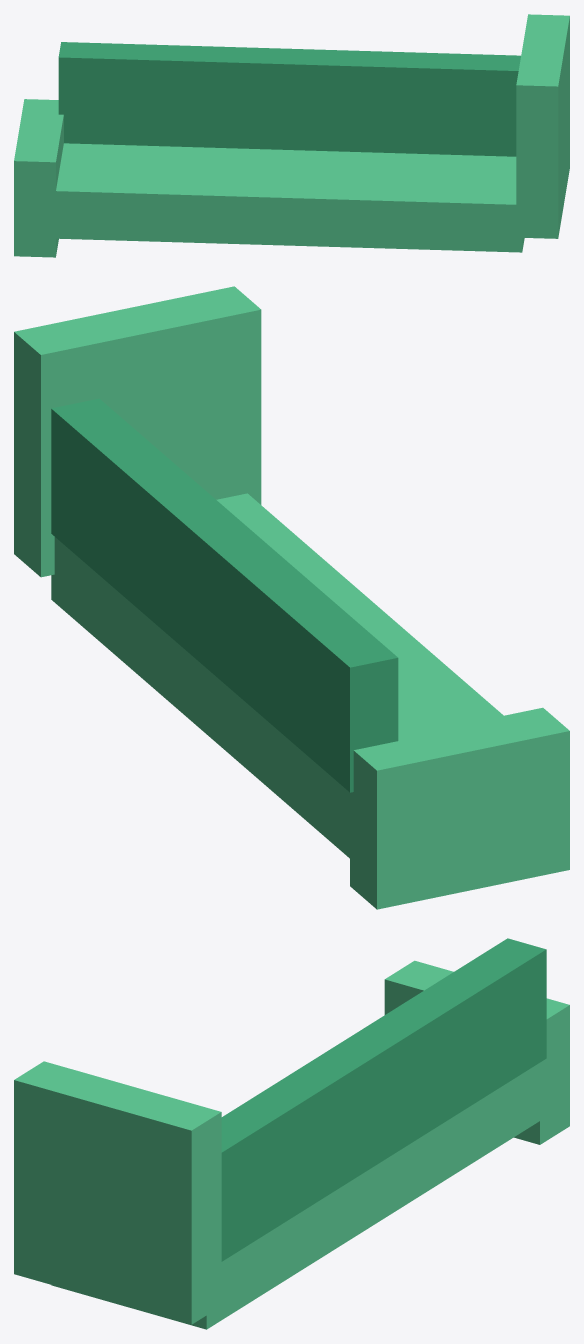
Rendered from nd_greenbench.glb.
3 renders of one model, top to bottom at view 1: azimuth 30°, elevation 25°; view 2: azimuth 150°, elevation 25°; view 3: azimuth 270°, elevation 25°, orthographic. The views are drawn at different scales.
Visible parts, largest first — view 1: nd_greenbench_lod0; view 2: nd_greenbench_lod0; view 3: nd_greenbench_lod0.
Part boxes in pixels (bbox=[...]): nd_greenbench_lod0: bbox=[14, 14, 569, 257]; nd_greenbench_lod0: bbox=[14, 286, 569, 909]; nd_greenbench_lod0: bbox=[14, 938, 569, 1329].
Size of what is drawn, in the model's own units: 5.15 by 2 by 4.15.
